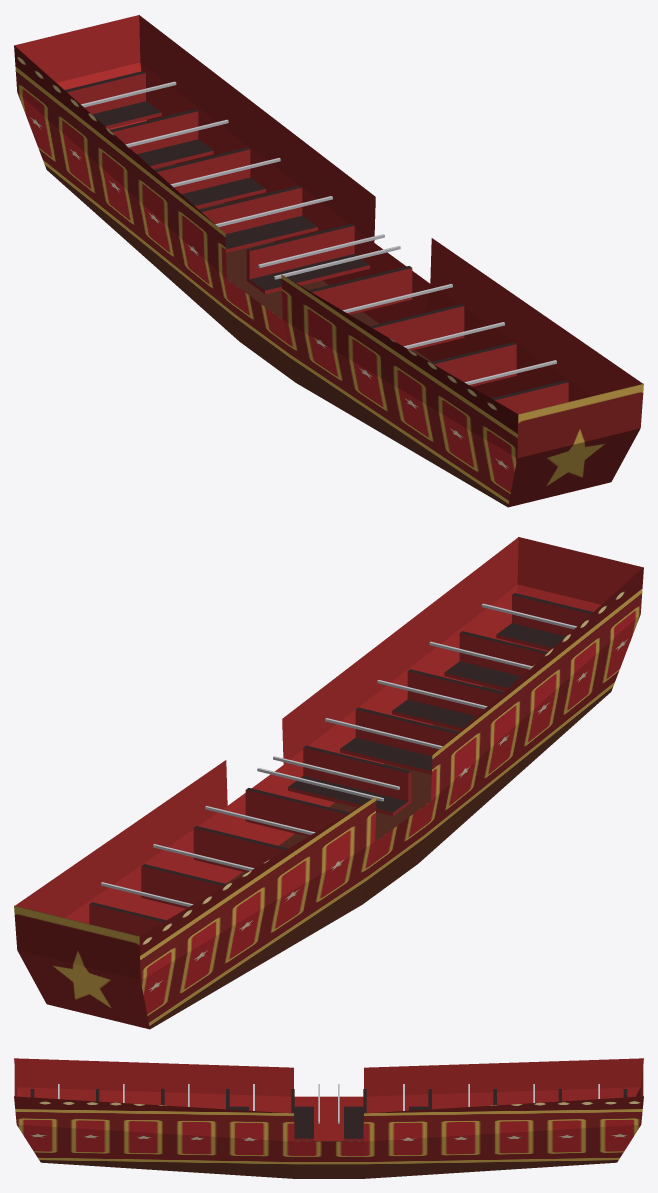
Rendered from 02_SuperViking_Tex.glb.
3 views of the same model, one above another, from view 1: azimuth 30°, elevation 25°; view 2: azimuth 150°, elevation 25°; view 3: azimuth 270°, elevation 25° (orthographic). The views are drawn at different scales.
Parts seen in each view (by area): view 1: 02_SuperViking; view 2: 02_SuperViking; view 3: 02_SuperViking.
Part boxes in pixels (x1,y1,x2,y2): 02_SuperViking: (14, 15, 643, 507); 02_SuperViking: (14, 537, 643, 1029); 02_SuperViking: (14, 1058, 643, 1178).
Bounding box in the file's own units: 2.4 × 2.02 × 13.91.
Materials: 1 (1 with a texture image).
